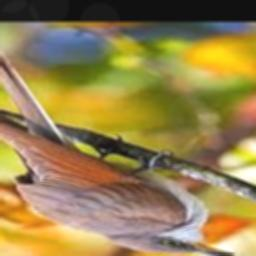Cuckoo: (0, 44, 235, 256)
